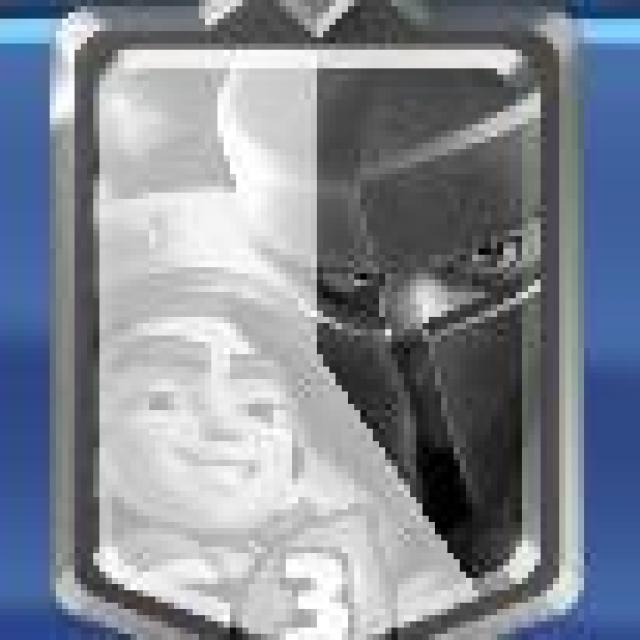Little_Prince: (53, 5, 580, 640)
